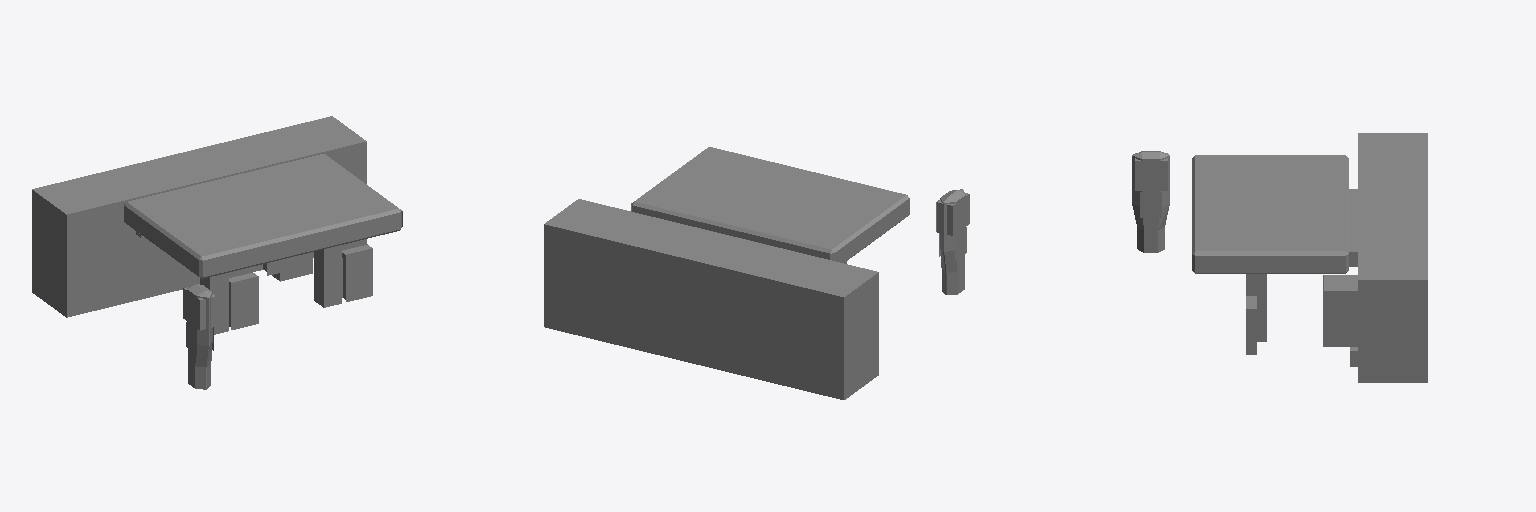
The model's file is gas.obj.
The picture shows the model from 3 angles: view 1: azimuth 30°, elevation 25°; view 2: azimuth 150°, elevation 25°; view 3: azimuth 270°, elevation 25°; orthographic projection.
Visible parts, largest first — view 1: GasStation; view 2: GasStation; view 3: GasStation.
Boxes of the visible parts, box(x1,y1,x2,y2) form: GasStation: box(32, 116, 402, 389); GasStation: box(544, 147, 969, 399); GasStation: box(1132, 133, 1427, 382).
Size of the model in its own units: 415 by 142 by 354.